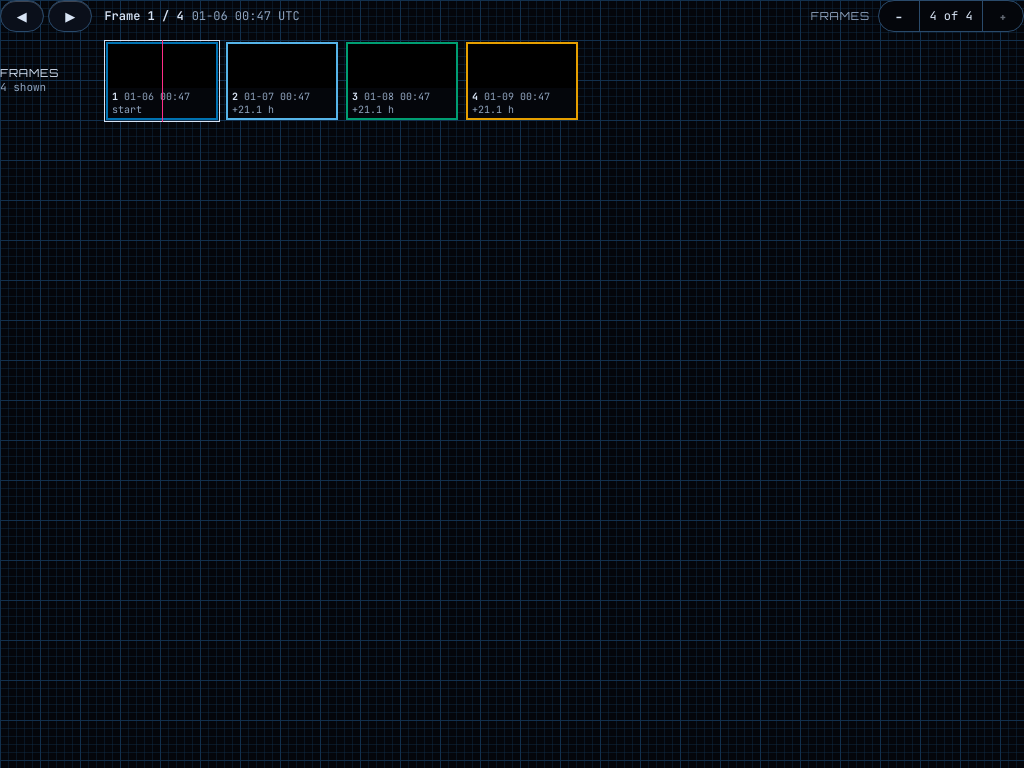
Timeline Blink range and speed › "+" at the limit › says the status is unknown when the health check fails, and an outside click closes it
Step 1. Click the button named "Show more frames" → (1003, 16), box [983,1,1023,31]
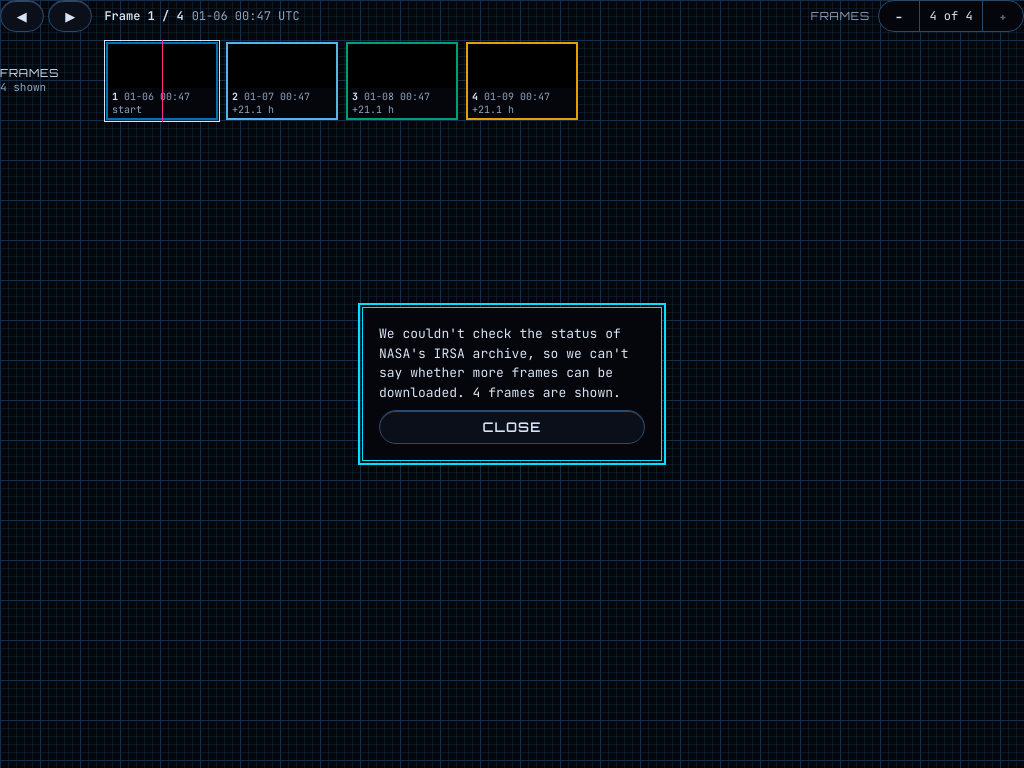
Expected: the text "couldn't check" is shown, [379,325,629,400]
Step 2. Press the mouse on the element that starts with "Frame" → (512, 384), box [0,0,1023,767]
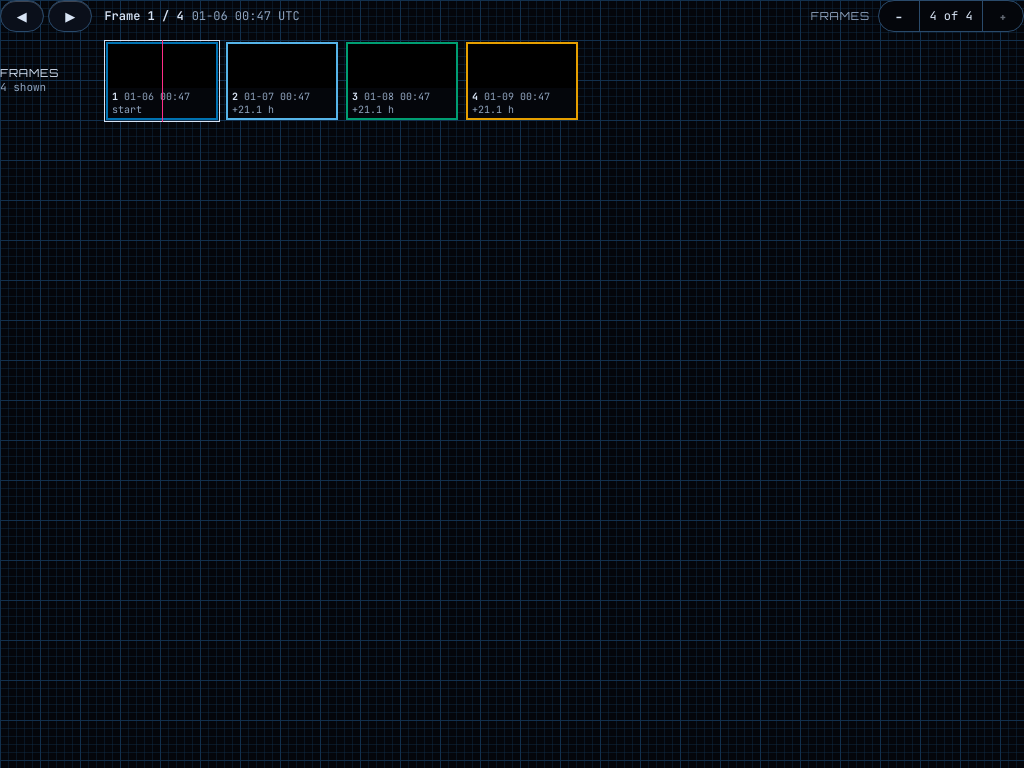
Expected: the dialog is gone
